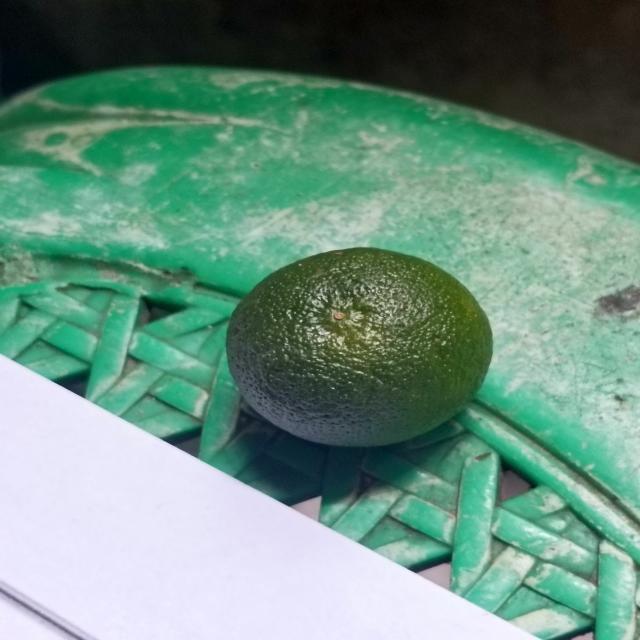heathy: (224, 244, 501, 448)
